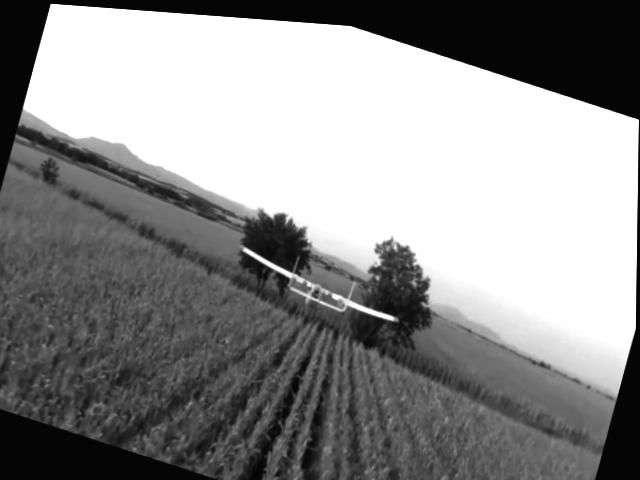hedef: (218, 224, 419, 351)
